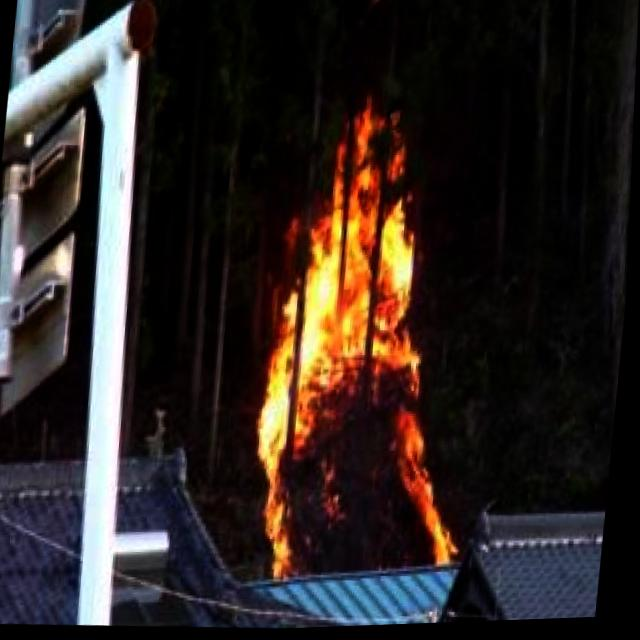helmet: (245, 104, 488, 591)
